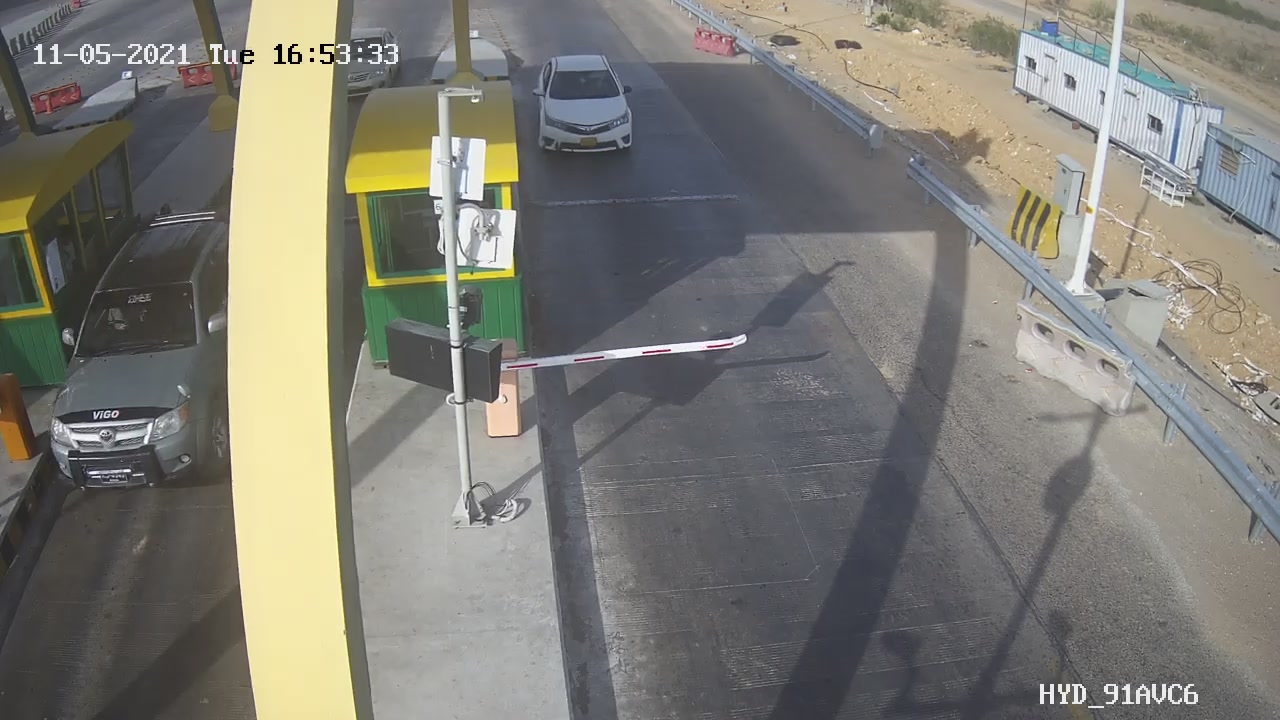F1: (521, 43, 653, 168)
